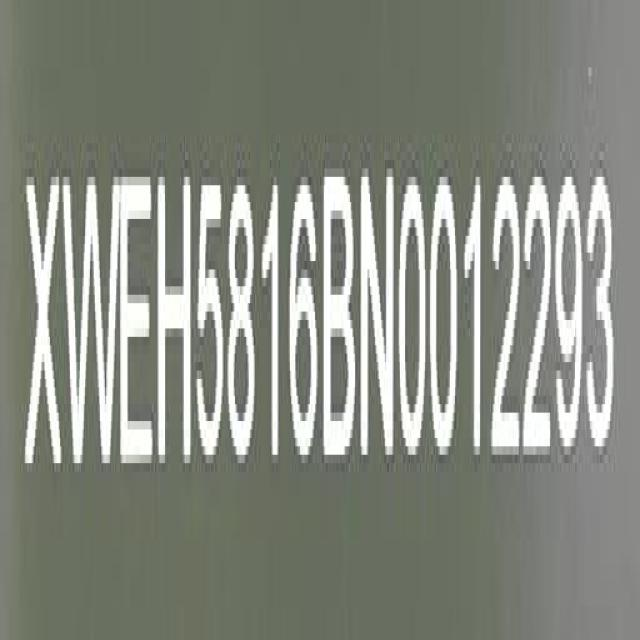0: (429, 168, 459, 471), (398, 178, 428, 468)
1: (260, 178, 284, 465), (463, 171, 485, 468)
2: (492, 172, 521, 464), (522, 181, 553, 452)
3: (586, 168, 614, 468)
5: (196, 175, 226, 474)
6: (289, 178, 321, 468)
8: (227, 175, 256, 471)
9: (554, 169, 584, 474)
B: (322, 165, 358, 471)
E: (120, 169, 155, 474)
H: (155, 168, 195, 471)
N: (359, 168, 398, 471)
W: (63, 168, 118, 468)
X: (24, 178, 64, 474)
